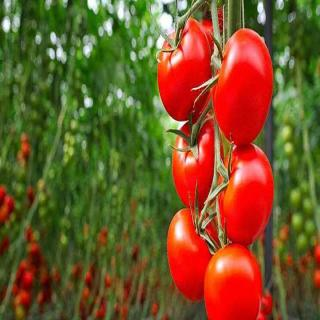Tomat: (213, 28, 275, 147), (157, 17, 214, 123), (171, 103, 224, 216), (220, 143, 275, 246), (167, 207, 219, 302), (204, 244, 264, 320), (202, 8, 225, 57)
